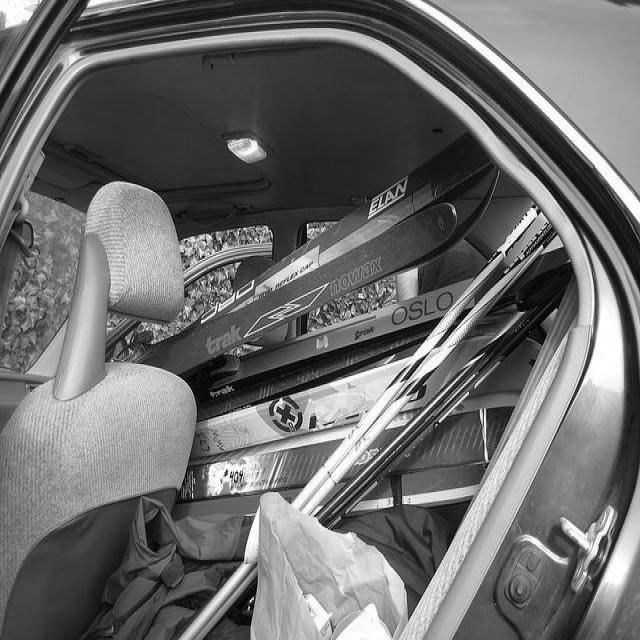vehicle: (0, 1, 640, 633)
